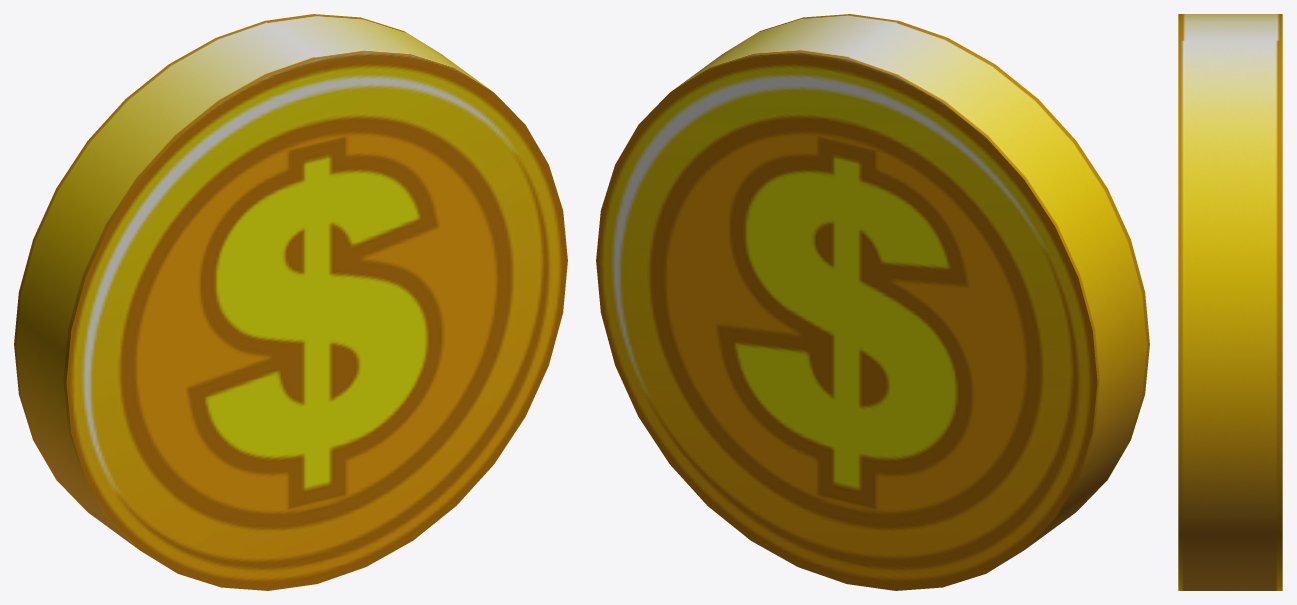
The model's file is Coin_01.FBX.
3 renders of one model, left to right at view 1: azimuth 30°, elevation 25°; view 2: azimuth 150°, elevation 25°; view 3: azimuth 270°, elevation 25°, orthographic.
Visible parts, largest first — view 1: Item_Coin_A; view 2: Item_Coin_A; view 3: Item_Coin_A.
Boxes of the visible parts, x1,y1,x2,y2 form: Item_Coin_A: [14, 14, 567, 590]; Item_Coin_A: [596, 14, 1149, 590]; Item_Coin_A: [1178, 14, 1282, 590].
Size of the model in its own units: 8701 by 8701 by 1575.
